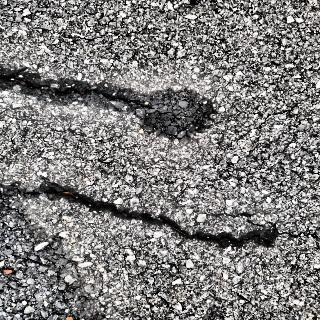crack: (10, 175, 276, 252), (0, 65, 151, 115)
